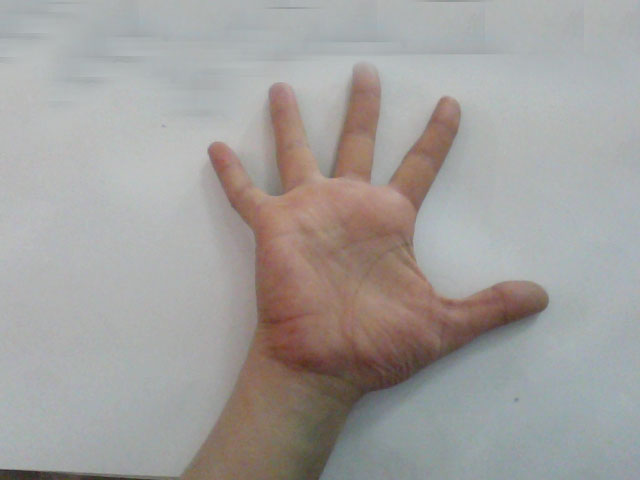hand: (190, 48, 568, 372)
